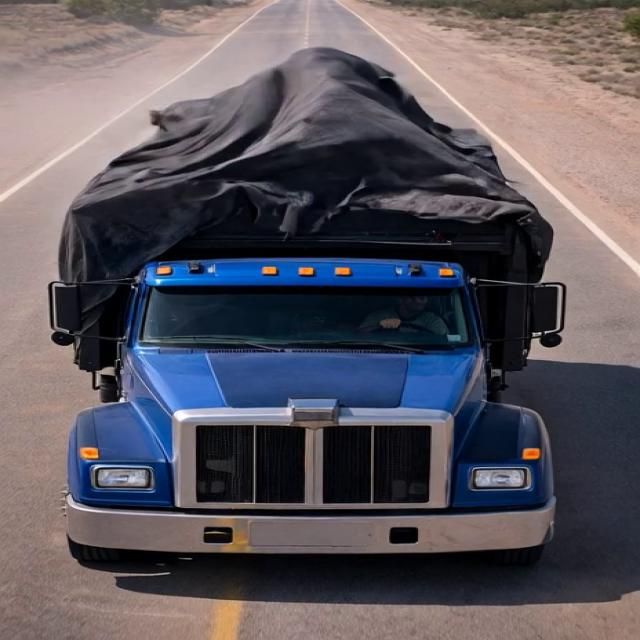Box: (61, 48, 552, 254)
Truck: (17, 38, 586, 566)
